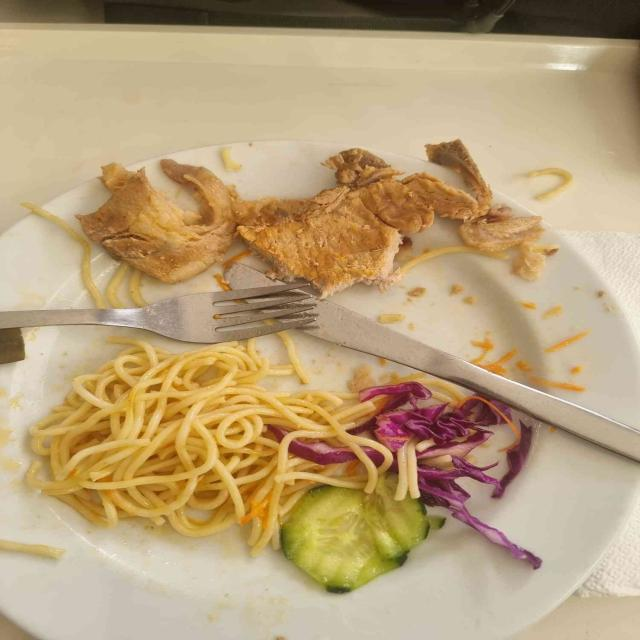board: (0, 26, 640, 640)
chicken steak: (237, 186, 402, 297)
cucumber: (280, 478, 431, 592)
fork: (0, 280, 324, 364)
garbage: (329, 140, 551, 279), (76, 160, 239, 284)
knife: (304, 300, 640, 461)
lettuce: (351, 381, 539, 566), (291, 441, 354, 465)
plate: (0, 141, 640, 640)
spaghetti: (29, 341, 392, 551)
